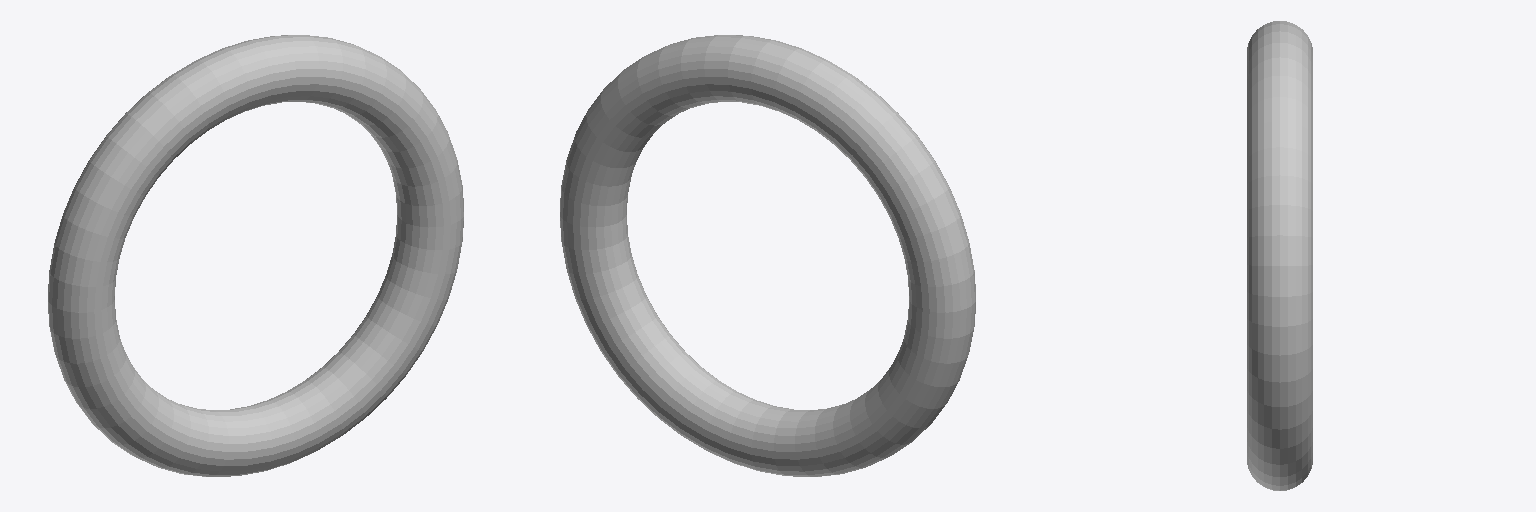
The model's file is ring.obj.
3 renders of one model, left to right at view 1: azimuth 30°, elevation 25°; view 2: azimuth 150°, elevation 25°; view 3: azimuth 270°, elevation 25°, orthographic.
Size of the model in its own units: 14 by 14 by 1.99.